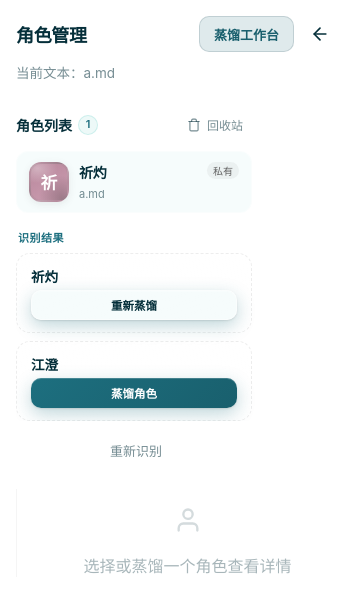
Test: G7 角色页按钮：没启动就复原 › 第一次蒸馏：force=false，成功后按钮保持「蒸馏中…」
Step 1. Click the button "蒸馏角色" → (134, 393), box x1=31 y1=378 x2=237 y2=408
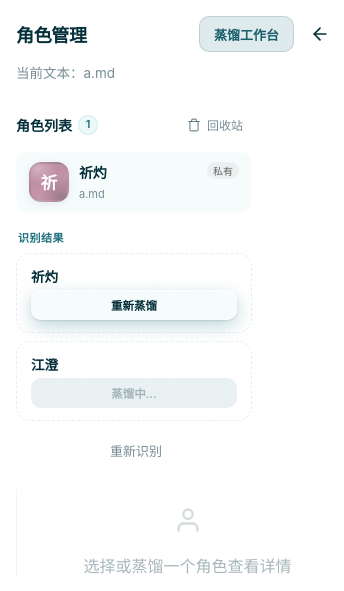
Result: the button "蒸馏中…" is shown at x1=31 y1=378 x2=237 y2=408
